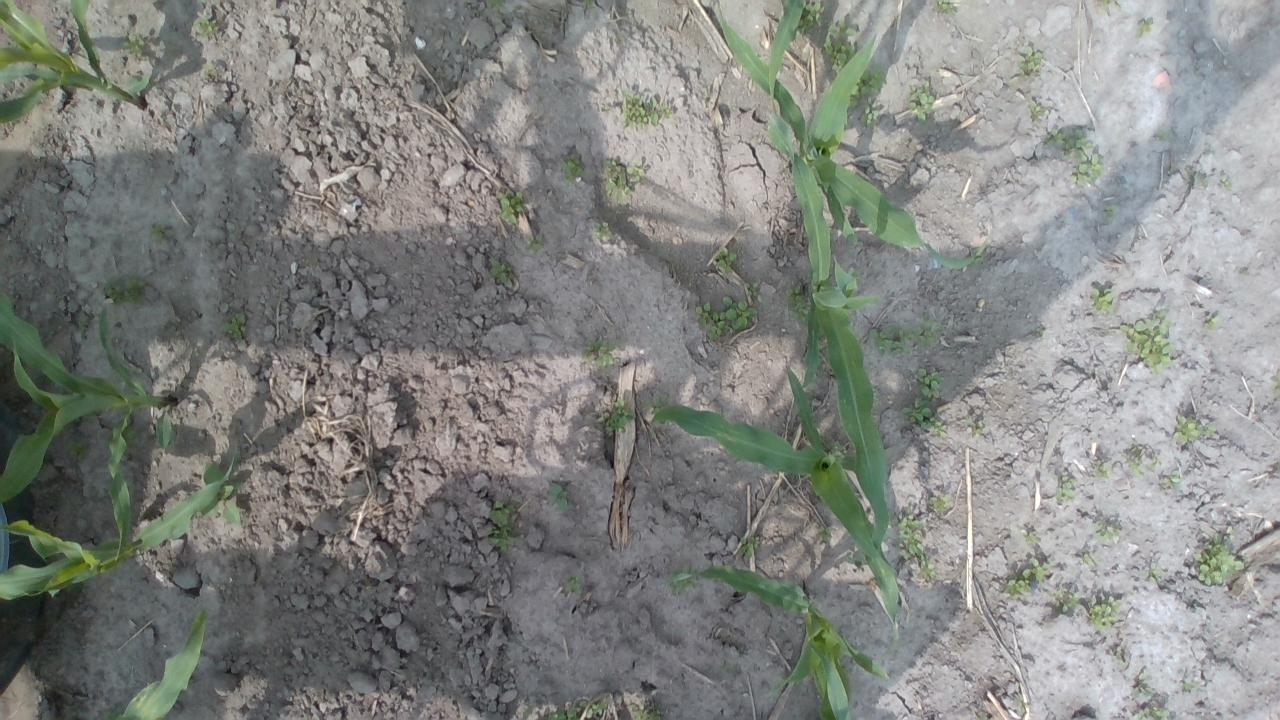Maize: (714, 0, 978, 274), (657, 371, 898, 624), (763, 110, 892, 554), (0, 292, 176, 564), (0, 440, 239, 603), (671, 560, 890, 720), (0, 0, 157, 123), (106, 607, 208, 720), (764, 0, 806, 118)
Weeds: (1117, 308, 1173, 375), (694, 297, 762, 341), (1192, 533, 1246, 588), (197, 463, 243, 526), (869, 320, 944, 358), (1062, 128, 1104, 184), (620, 88, 673, 128), (486, 497, 524, 551), (845, 66, 888, 107), (599, 157, 634, 204), (894, 507, 925, 560), (902, 397, 946, 434), (102, 273, 145, 308), (597, 398, 636, 435), (580, 337, 626, 368), (822, 34, 856, 74), (1173, 416, 1217, 445), (1088, 596, 1122, 632), (494, 190, 526, 227), (906, 83, 936, 120), (784, 286, 810, 328), (795, 0, 826, 32), (668, 562, 700, 593), (916, 366, 944, 400), (644, 393, 672, 426), (486, 256, 514, 288), (546, 482, 574, 513), (1018, 47, 1042, 80), (220, 313, 248, 341), (626, 701, 666, 720), (1093, 518, 1120, 546), (558, 153, 584, 182), (1054, 474, 1080, 503), (714, 246, 740, 274), (1023, 558, 1051, 582), (858, 99, 882, 127), (191, 12, 215, 40), (576, 697, 605, 720), (826, 16, 859, 36), (1054, 591, 1082, 614), (1088, 286, 1112, 312), (927, 490, 953, 514), (64, 437, 88, 463), (149, 224, 174, 248), (1004, 576, 1030, 598), (119, 31, 145, 53), (960, 415, 986, 436), (1128, 446, 1144, 480), (122, 428, 146, 450), (1134, 705, 1169, 720), (1134, 672, 1155, 696), (544, 706, 576, 720), (592, 222, 614, 242), (738, 536, 760, 556), (1142, 564, 1164, 583), (932, 0, 958, 16), (626, 162, 646, 182), (1042, 128, 1066, 144), (526, 234, 546, 253), (918, 560, 938, 579), (104, 703, 126, 720), (743, 280, 763, 298), (970, 248, 987, 268), (562, 575, 582, 592), (1080, 553, 1102, 568), (814, 526, 832, 544), (96, 431, 114, 449), (829, 442, 849, 458), (1028, 102, 1044, 121), (1136, 19, 1152, 37), (1168, 468, 1182, 488), (1204, 316, 1219, 332), (718, 662, 738, 674), (486, 0, 508, 10), (1096, 465, 1112, 478), (1154, 129, 1168, 142), (1270, 377, 1280, 395), (1219, 177, 1232, 190), (1017, 697, 1027, 713), (78, 320, 88, 336), (1104, 204, 1116, 216), (974, 712, 990, 720), (203, 63, 214, 74), (1182, 680, 1194, 690), (582, 0, 594, 9), (846, 551, 855, 560), (1225, 526, 1234, 534), (1103, 0, 1112, 5)
